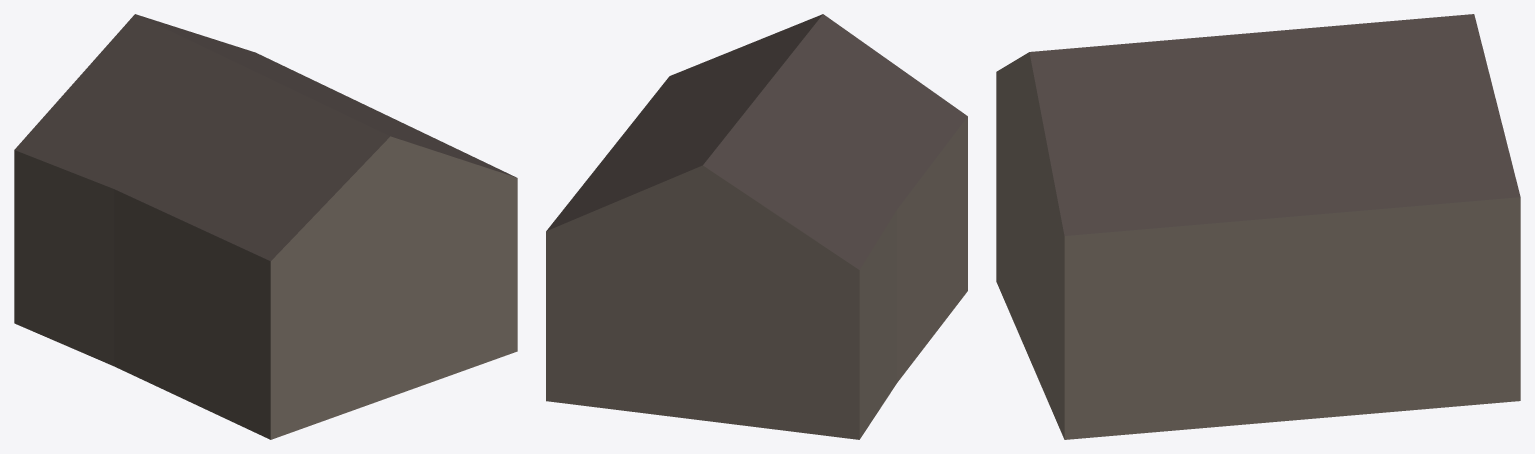
3 renders of one model, left to right at view 1: azimuth 30°, elevation 25°; view 2: azimuth 150°, elevation 25°; view 3: azimuth 270°, elevation 25°, orthographic. The views are drawn at different scales.
Visible parts, largest first — view 1: HP-w1198843241; view 2: HP-w1198843241; view 3: HP-w1198843241.
Boxes of the visible parts, x1,y1,x2,y2 form: HP-w1198843241: (14,14,517,439); HP-w1198843241: (546,14,967,439); HP-w1198843241: (996,14,1520,439).
Size of the model in its own units: 12.63 by 9.02 by 13.98.
